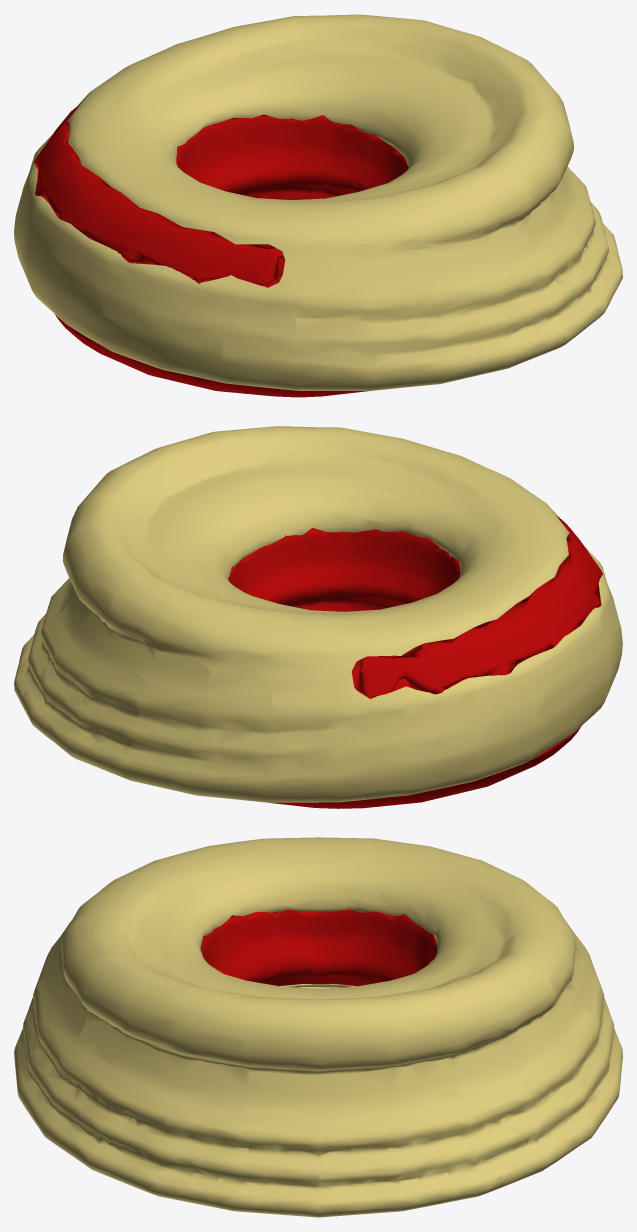
Rendered from dialogue.glb.
The picture shows the model from 3 angles, top to bottom: view 1: azimuth 30°, elevation 25°; view 2: azimuth 150°, elevation 25°; view 3: azimuth 270°, elevation 25°; orthographic projection.
Visible parts, largest first — view 1: Boolean Meshes2.037, Boolean Meshes2.001; view 2: Boolean Meshes2.037, Boolean Meshes2.001; view 3: Boolean Meshes2.037, Boolean Meshes2.001.
Part boxes in pixels (box(x1,y1,x2,y2)): Boolean Meshes2.037: box(14, 14, 622, 390); Boolean Meshes2.001: box(34, 104, 408, 397); Boolean Meshes2.037: box(14, 426, 622, 802); Boolean Meshes2.001: box(228, 516, 602, 808); Boolean Meshes2.037: box(14, 837, 622, 1217); Boolean Meshes2.001: box(200, 909, 437, 986).
Size of the model in its own units: 7.29 by 2.7 by 7.22.
